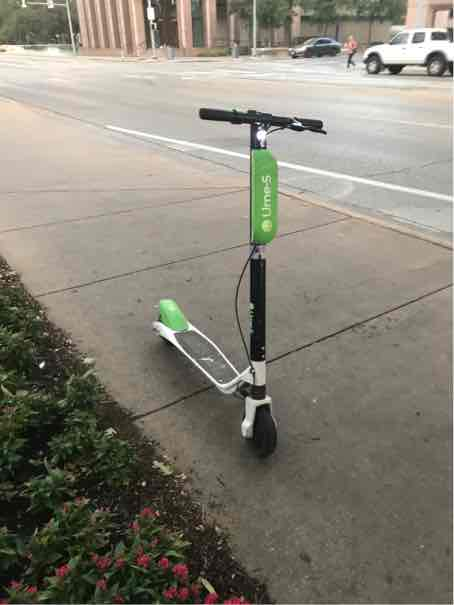scooter: (137, 97, 337, 464)
